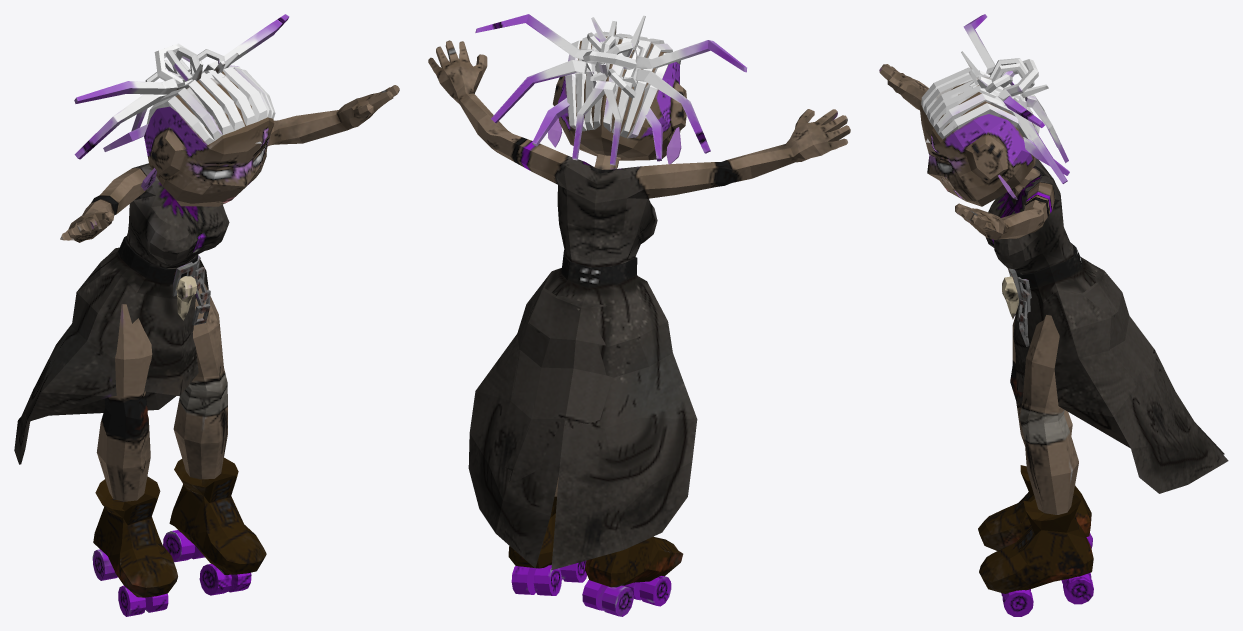
Rendered from bruja_000190.obj.
The picture shows the model from 3 angles, left to right: view 1: azimuth 30°, elevation 25°; view 2: azimuth 150°, elevation 25°; view 3: azimuth 270°, elevation 25°; orthographic projection. The views are drawn at different scales.
Visible parts, largest first — view 1: Bruja_Plane.001; view 2: Bruja_Plane.001; view 3: Bruja_Plane.001.
Part boxes in pixels (x1=…): Bruja_Plane.001: x1=14, y1=14, x2=399, y2=616; Bruja_Plane.001: x1=428, y1=14, x2=850, y2=616; Bruja_Plane.001: x1=879, y1=14, x2=1228, y2=616.
Bounding box in the file's own units: 11.36 × 16.19 × 9.6.
